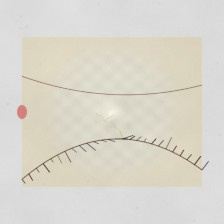corneal_ulcer: (89, 106, 127, 137)
